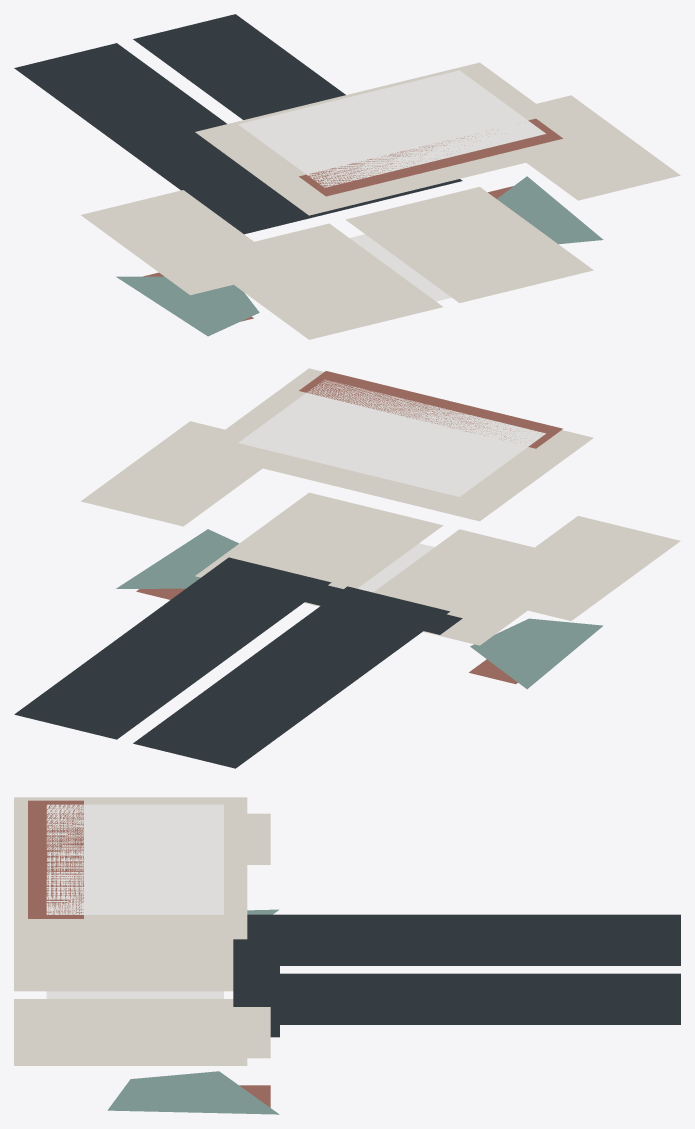
File: structural.obj
3 renders of one model, top to bottom at view 1: azimuth 30°, elevation 25°; view 2: azimuth 150°, elevation 25°; view 3: azimuth 270°, elevation 25°, orthographic. The views are drawn at different scales.
Visible parts, largest first — view 1: inner_back, trouser_L, jacket_front_R, jacket_front_L, trouser_R, sleeve_L, jacket_back, sleeve_R, venturi_channel_L, back_yoke, venturi_channel_R, waistband (+1 smaller); view 2: trouser_R, trouser_L, inner_back, jacket_front_R, jacket_back, sleeve_L, sleeve_R, jacket_front_L, back_yoke, venturi_channel_L, venturi_channel_R, inner_front (+1 smaller); view 3: trouser_L, trouser_R, inner_back, sleeve_R, jacket_front_L, jacket_back, back_yoke, jacket_front_R, venturi_channel_R, inner_front, sleeve_L, waistband.
Part boxes in pixels (left/top/right/bottom): inner_back: left=238, top=70, right=545, bottom=187; trouser_L: left=14, top=43, right=298, bottom=224; jacket_front_R: left=345, top=187, right=593, bottom=302; jacket_front_L: left=234, top=223, right=442, bottom=339; trouser_R: left=133, top=14, right=345, bottom=119; sleeve_L: left=81, top=190, right=292, bottom=295; jacket_back: left=195, top=62, right=593, bottom=215; sleeve_R: left=526, top=95, right=680, bottom=200; venturi_channel_L: left=116, top=276, right=259, bottom=336; back_yoke: left=299, top=118, right=562, bottom=196; venturi_channel_R: left=497, top=176, right=603, bottom=244; waistband: left=231, top=179, right=462, bottom=234; trouser_R: left=14, top=557, right=331, bottom=739; trouser_L: left=133, top=586, right=449, bottom=768; inner_back: left=238, top=379, right=545, bottom=496; jacket_front_R: left=195, top=492, right=443, bottom=606; jacket_back: left=195, top=368, right=593, bottom=521; sleeve_L: left=469, top=516, right=680, bottom=620; sleeve_R: left=81, top=421, right=262, bottom=526; jacket_front_L: left=373, top=529, right=534, bottom=645; back_yoke: left=299, top=371, right=562, bottom=448; venturi_channel_L: left=470, top=618, right=603, bottom=689; venturi_channel_R: left=116, top=529, right=238, bottom=588; inner_front: left=357, top=543, right=434, bottom=592; trouser_L: left=242, top=914, right=680, bottom=965; trouser_R: left=242, top=973, right=680, bottom=1024; inner_back: left=46, top=804, right=223, bottom=914; sleeve_R: left=46, top=1007, right=270, bottom=1058; jacket_front_L: left=14, top=939, right=233, bottom=991; jacket_back: left=14, top=797, right=247, bottom=939; back_yoke: left=28, top=800, right=83, bottom=918; jacket_front_R: left=14, top=999, right=247, bottom=1065; venturi_channel_R: left=107, top=1071, right=279, bottom=1114; inner_front: left=46, top=991, right=223, bottom=998; sleeve_L: left=247, top=813, right=270, bottom=864; waistband: left=233, top=939, right=279, bottom=1037.
Bounding box in the file's own units: 1.24 × 0.365 × 1.43.
